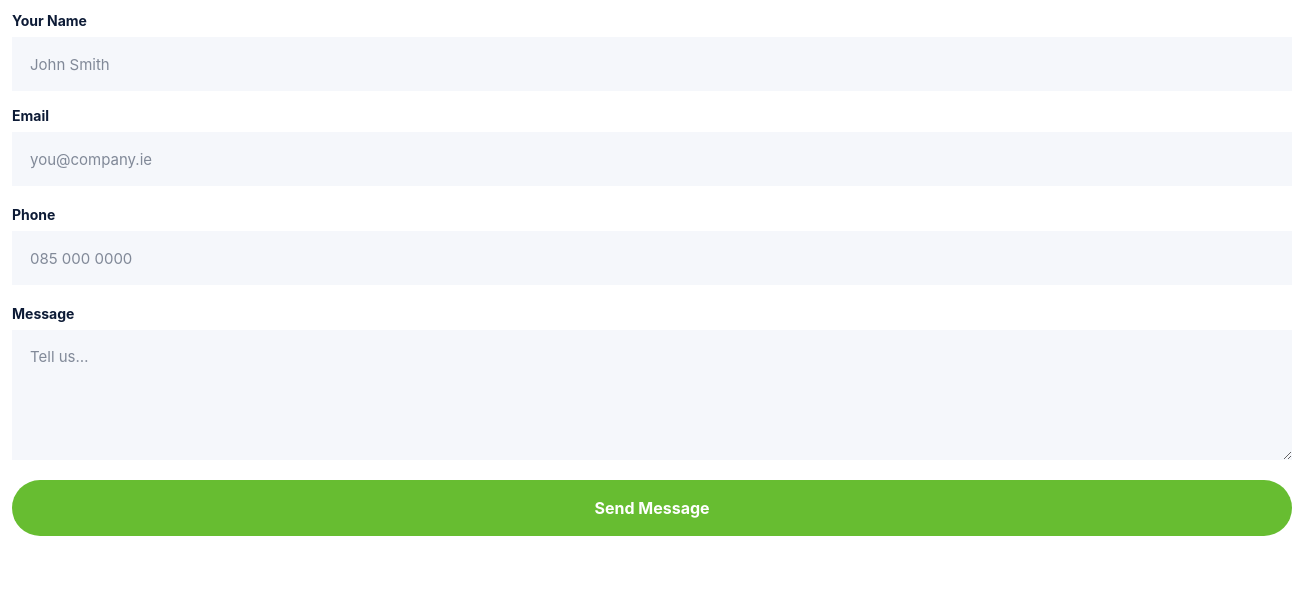
Test: ContactForm (master 7.3) › posts JSON to the leads API and shows the success copy, then clears the form
Type "Dinn Rí" into the field labelled "Your Name" at (652, 64), box [12,37,1292,91]
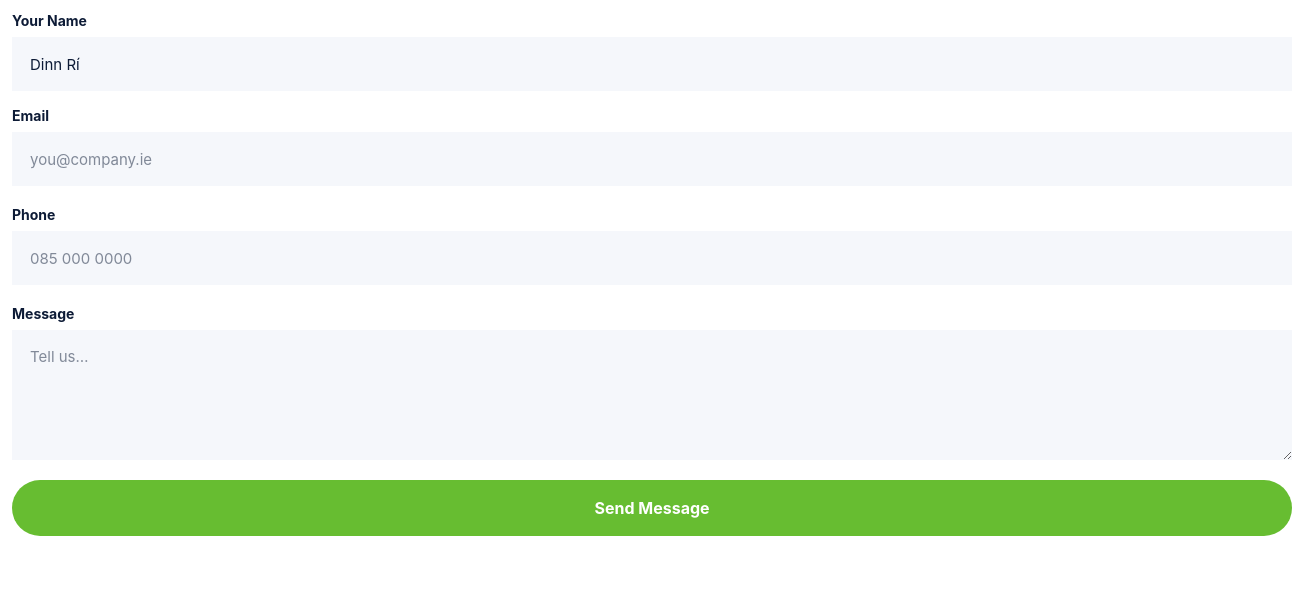
Type "dinn@example.ie" into the field labelled "Email" at (652, 159), box [12,132,1292,186]
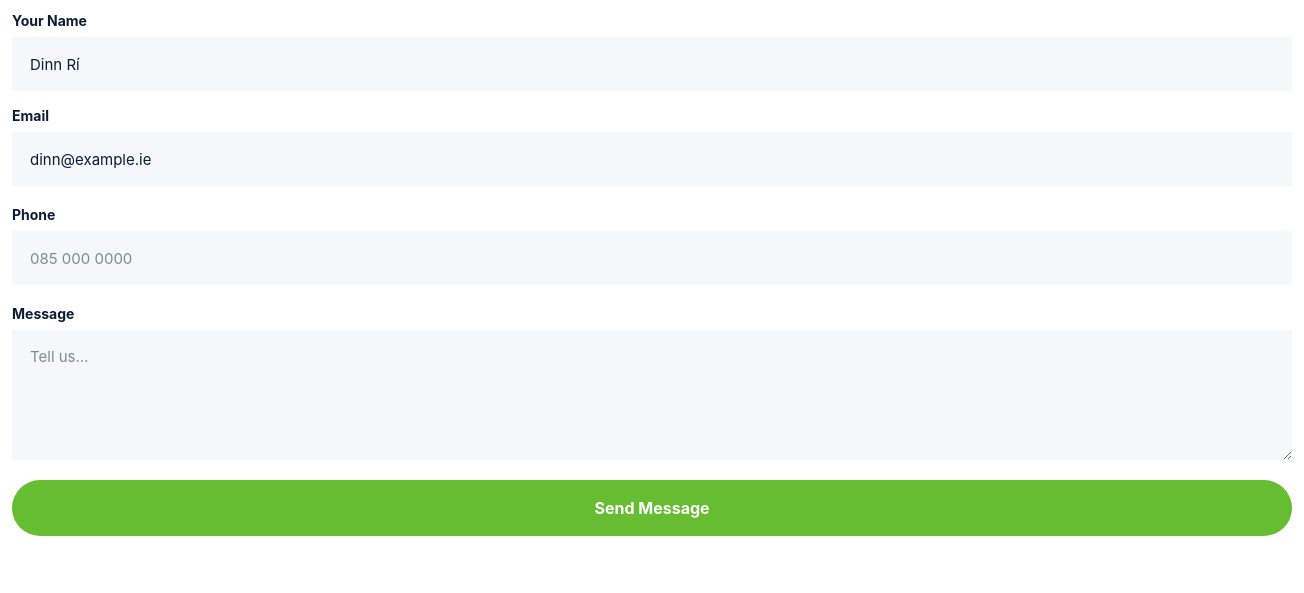
Type "085 123 4567" into the field labelled "Phone" at (652, 258), box [12,231,1292,285]
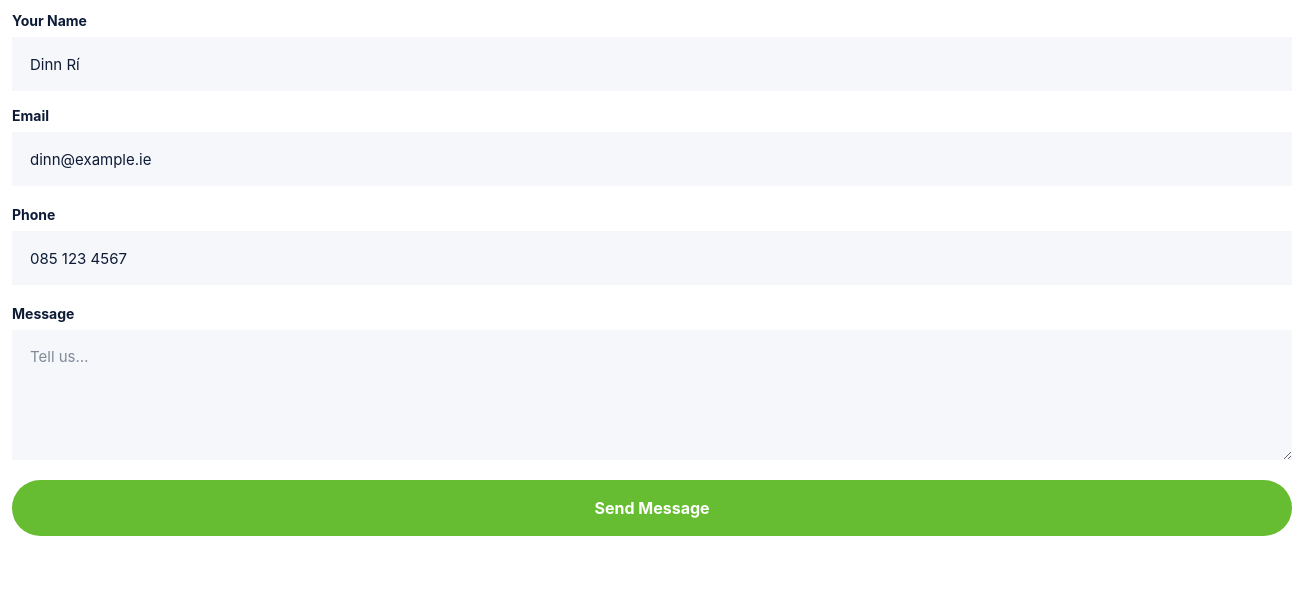
Type "Need a quote" into the text box labelled "Message" at (652, 395), box [12,330,1292,460]
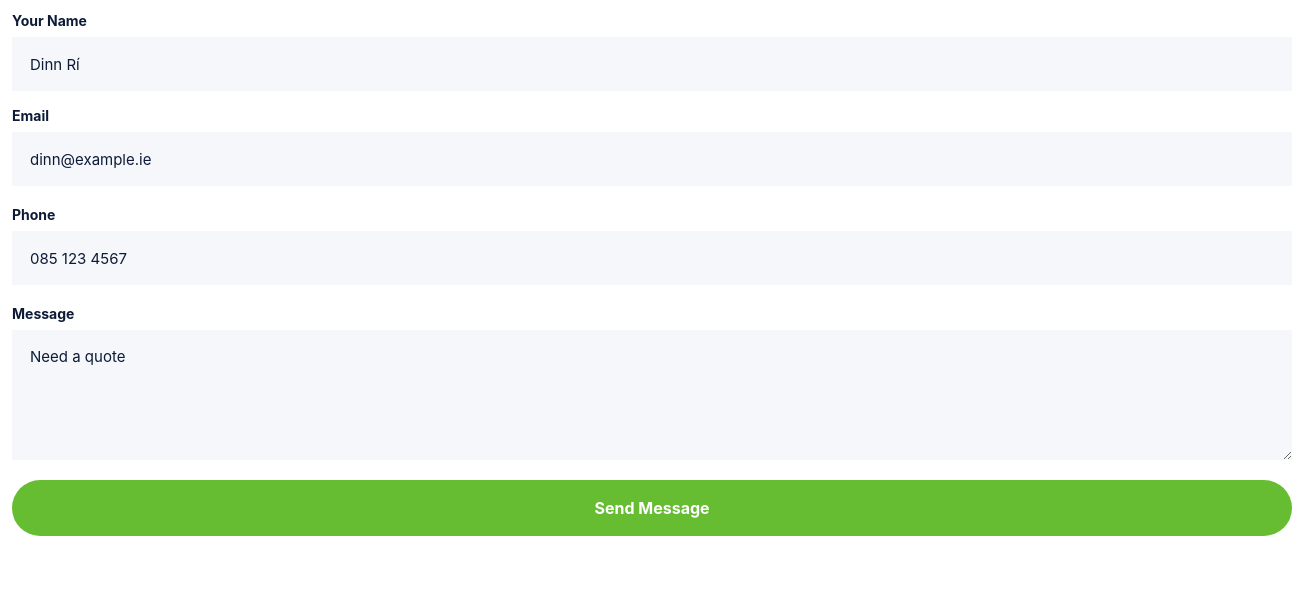
Click the button "Send Message" at (652, 508), box [12,480,1292,536]
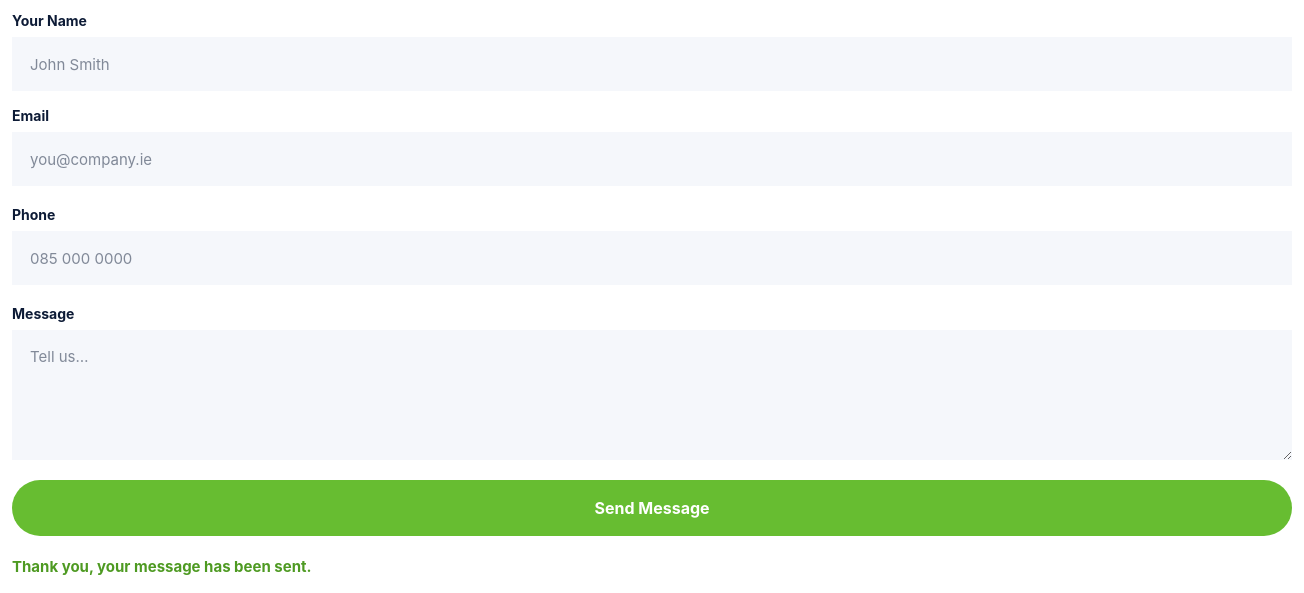
Check: the message reads "Thank you, your message has been sent.", box [12,557,312,576]
